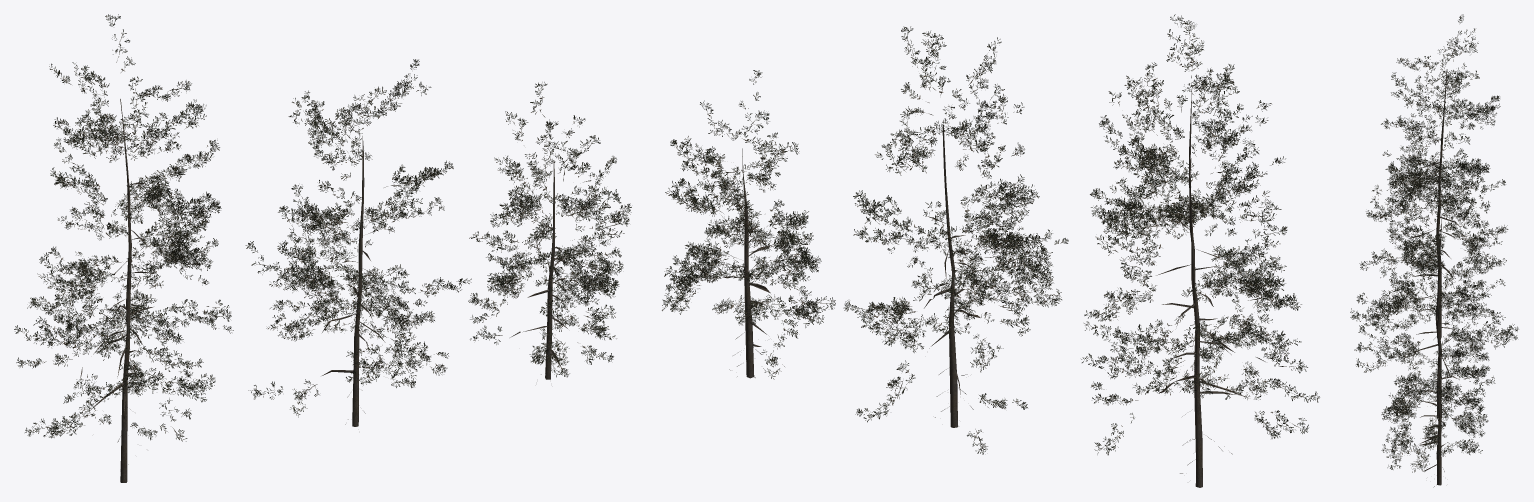
File: pine_sapling_medium.glb
The picture shows the model from 3 angles, left to right: view 1: azimuth 30°, elevation 25°; view 2: azimuth 150°, elevation 25°; view 3: azimuth 270°, elevation 25°; orthographic projection. The views are drawn at different scales.
Parts seen in each view (by area): view 1: pine_sapling_medium_a_LOD0, pine_sapling_medium_b_LOD0, pine_sapling_medium_c_LOD0; view 2: pine_sapling_medium_a_LOD0, pine_sapling_medium_b_LOD0, pine_sapling_medium_c_LOD0; view 3: pine_sapling_medium_a_LOD0, pine_sapling_medium_b_LOD0, pine_sapling_medium_c_LOD0.
Part boxes in pixels (x1,y1,x2,y2): pine_sapling_medium_a_LOD0: (14, 14, 233, 482); pine_sapling_medium_b_LOD0: (245, 59, 471, 426); pine_sapling_medium_c_LOD0: (468, 82, 631, 379); pine_sapling_medium_a_LOD0: (1081, 14, 1319, 487); pine_sapling_medium_b_LOD0: (843, 26, 1068, 454); pine_sapling_medium_c_LOD0: (662, 70, 835, 379); pine_sapling_medium_a_LOD0: (1359, 14, 1508, 339); pine_sapling_medium_b_LOD0: (1350, 161, 1518, 427); pine_sapling_medium_c_LOD0: (1381, 294, 1490, 487).
Size of the model in its own units: 15.47 by 11.41 by 5.38.
Materials: 3 (3 with a texture image).
